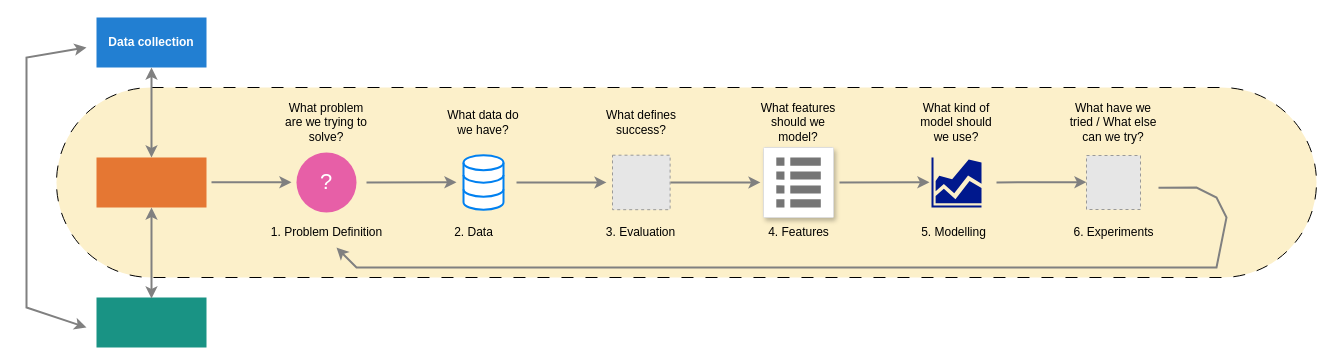
Some shapes in this 1334 by 364 pixel diagram are drawn without their labels. Grey dashed boxes stand in for pictures. Here are the shapes that lost their labels. From the top down, the centre of each, then its label:
At point 151,182: "Data modelling".
At point 151,322: "Deployment".
